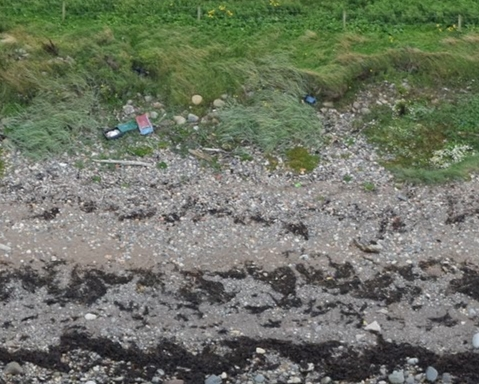scattered_barrel: (96, 105, 161, 145)
tube: (90, 150, 155, 170)
white_in_green: (289, 79, 327, 116)
